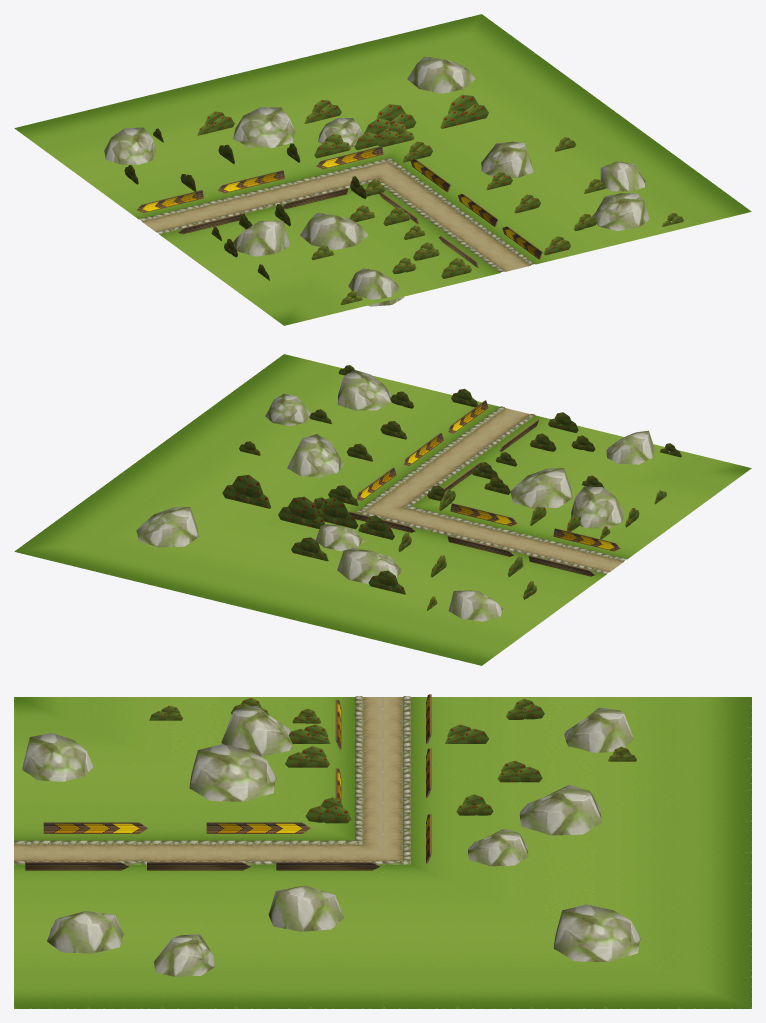
File: ForestRoad02_Left.FBX
3 renders of one model, top to bottom at view 1: azimuth 30°, elevation 25°; view 2: azimuth 150°, elevation 25°; view 3: azimuth 270°, elevation 25°, orthographic. The views are drawn at different scales.
Visible parts, largest first — view 1: Road, Stone (×10), Bush (×7), Fence (×3); view 2: Road, Stone (×10), Bush (×6), Fence (×2); view 3: Road, Stone (×10), Fence (×5), Bush (×7).
Part boxes in pixels (bbox=[...]): Road: bbox=[14, 14, 751, 325]; Stone (×10): bbox=[104, 56, 649, 306]; Bush (×7): bbox=[197, 94, 488, 158]; Fence (×3): bbox=[137, 146, 383, 212]; Road: bbox=[14, 354, 751, 665]; Stone (×10): bbox=[136, 370, 654, 621]; Bush (×6): bbox=[222, 475, 405, 594]; Fence (×2): bbox=[450, 503, 620, 551]; Road: bbox=[14, 696, 751, 1008]; Stone (×10): bbox=[22, 705, 640, 976]; Fence (×5): bbox=[25, 822, 380, 870]; Bush (×7): bbox=[285, 699, 544, 823].
Bounding box in the file's own units: 10000 × 781 × 10000.
